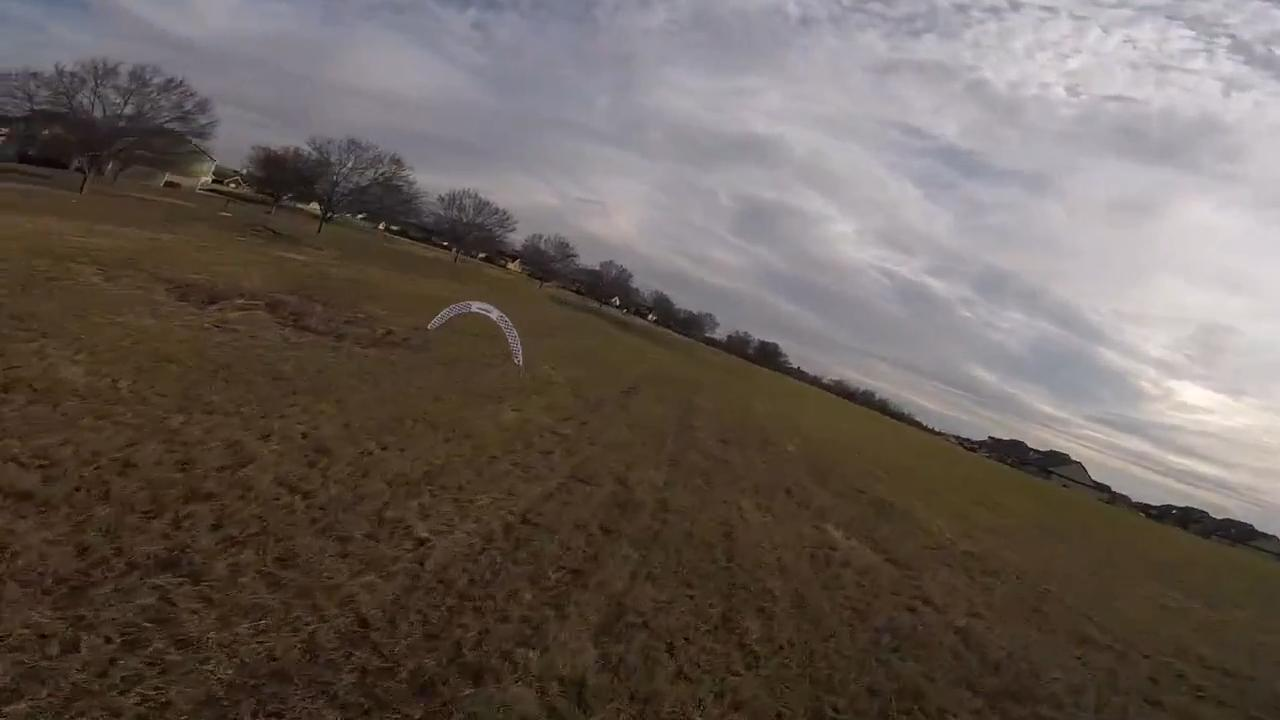gate: (427, 298, 525, 373)
